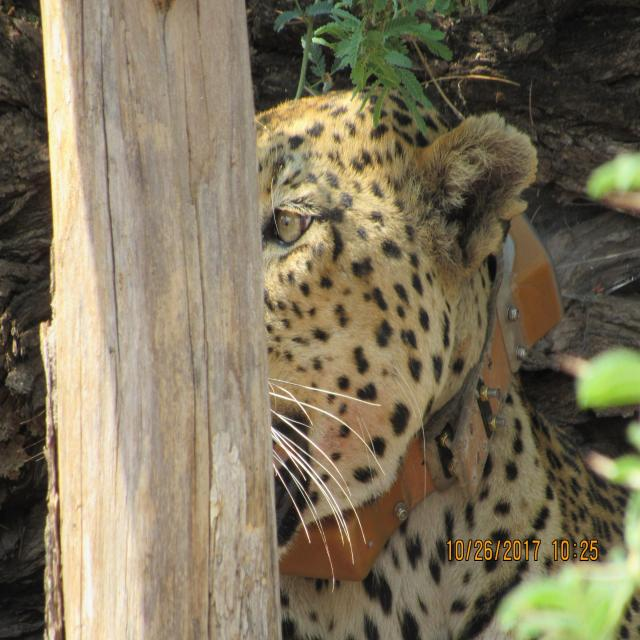Leopard: (198, 26, 620, 640)
